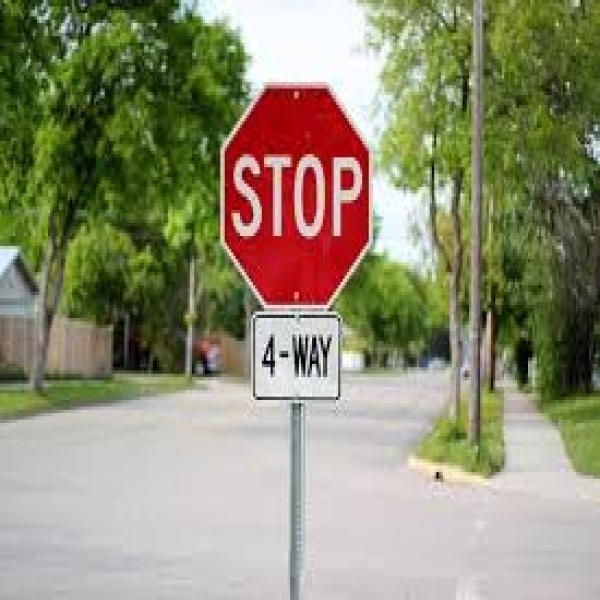stop: (225, 82, 369, 308)
